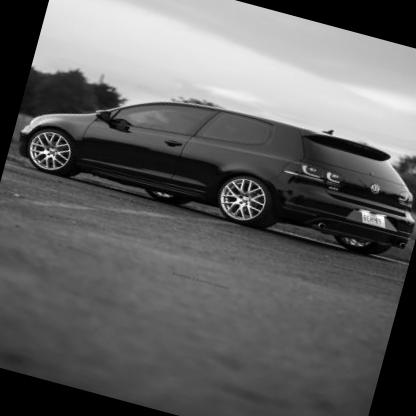car: (6, 40, 416, 285)
